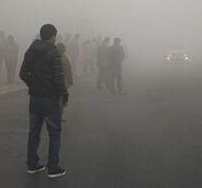person: (19, 22, 72, 179), (57, 42, 73, 121), (105, 37, 126, 94), (95, 37, 113, 90), (4, 34, 20, 84), (82, 38, 95, 73), (71, 33, 80, 62)
